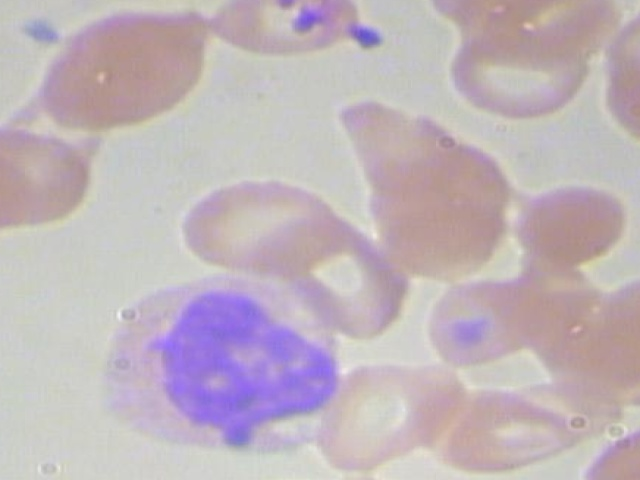Platelets: (13, 9, 67, 51), (343, 20, 389, 54)
RBC: (26, 1, 219, 138), (175, 176, 337, 274), (434, 377, 586, 474), (310, 362, 439, 475), (443, 28, 595, 123), (420, 269, 549, 370), (501, 181, 632, 268), (204, 0, 372, 56), (602, 47, 640, 158), (0, 115, 30, 252)
WBC: (65, 265, 360, 454)
